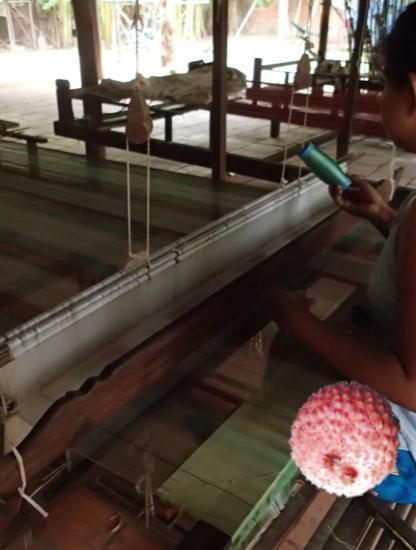Lychee: (286, 379, 406, 499)
